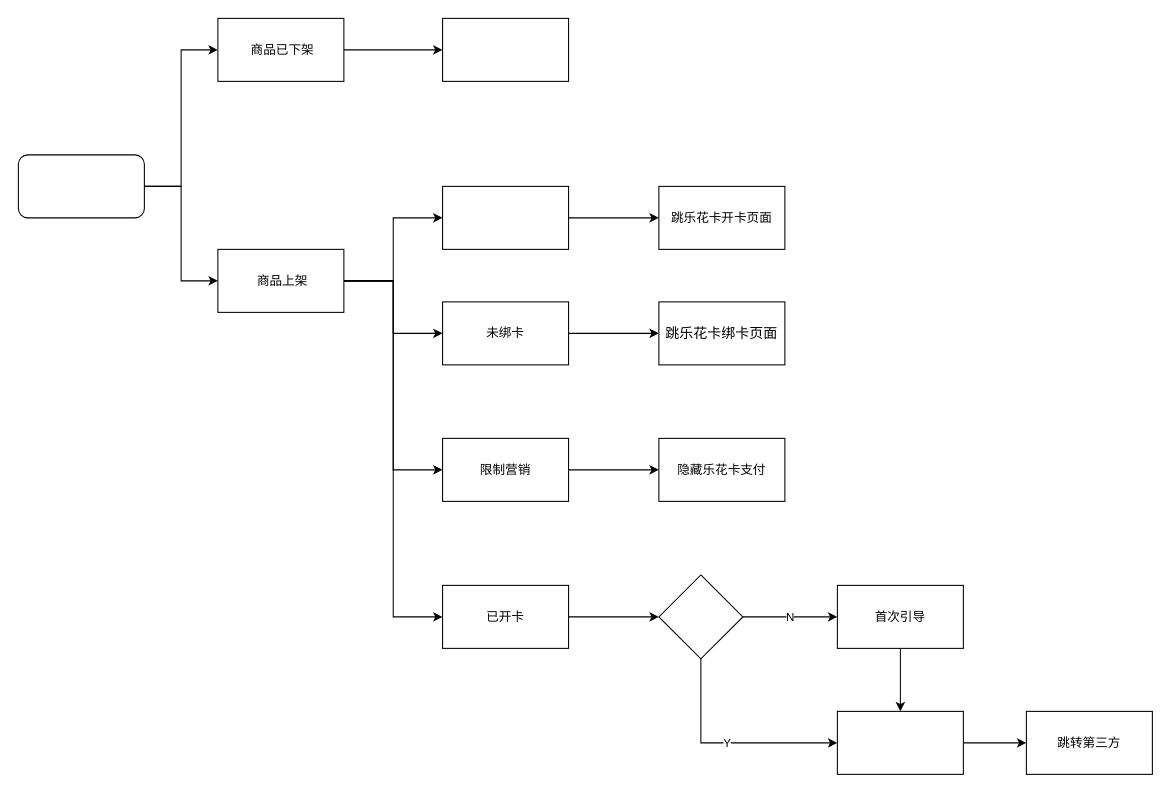
This 1171x793 diagram has some shape labels left out. Each missing label, with the centre of its shape:
"开始" belongs at [80,186].
"是否已展示 首次引导" belongs at [700,616].
"未开卡" belongs at [505,217].
"相似商品搜索" belongs at [505,49].
"调用转链服务" belongs at [899,742].
